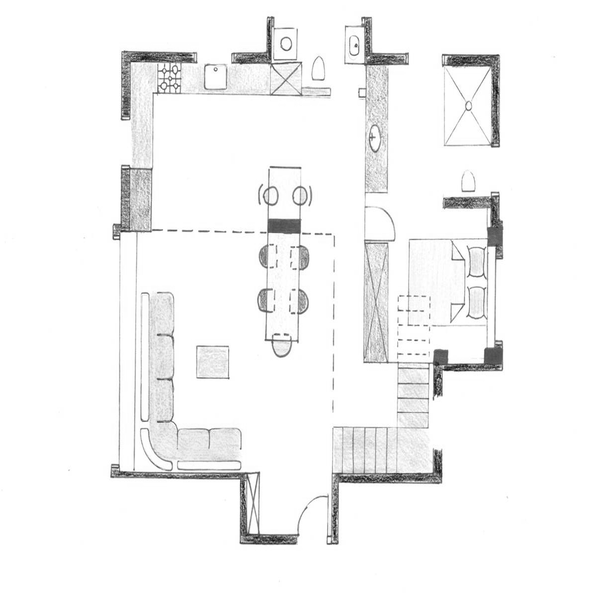door: (294, 493, 332, 543), (360, 202, 403, 244)
room: (110, 223, 343, 553), (113, 44, 307, 239), (358, 196, 507, 376), (370, 50, 500, 209), (330, 355, 446, 492)
wall: (113, 466, 244, 481), (337, 470, 447, 487), (123, 47, 197, 66), (488, 190, 507, 259), (490, 69, 505, 146), (119, 164, 135, 234), (440, 193, 498, 211), (235, 479, 252, 540), (118, 50, 132, 121), (441, 51, 502, 67), (265, 214, 303, 237), (437, 361, 503, 374), (236, 533, 297, 547), (368, 49, 409, 68), (333, 470, 342, 547), (265, 16, 276, 72), (362, 17, 373, 65), (233, 51, 267, 66)
